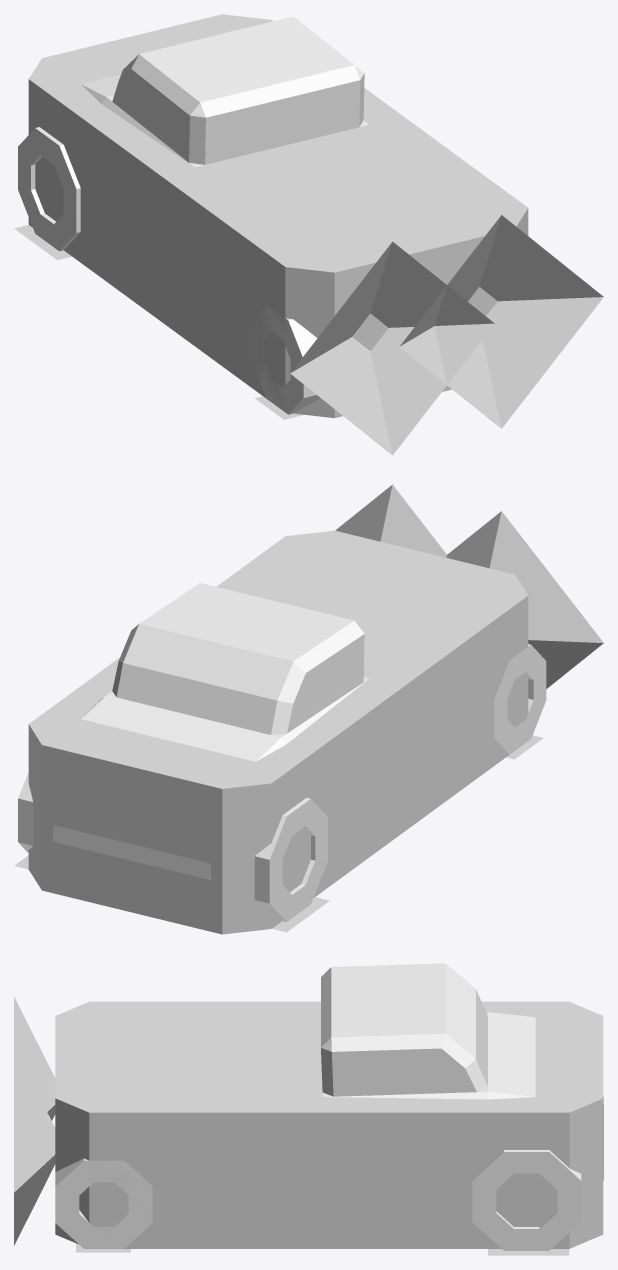
The model's file is Rattle.fbx.
3 views of the same model, one above another, from view 1: azimuth 30°, elevation 25°; view 2: azimuth 150°, elevation 25°; view 3: azimuth 270°, elevation 25° (orthographic). The views are drawn at different scales.
Visible parts, largest first — view 1: rattle_cldr, rattle1, TireSmokeMesh; view 2: rattle_cldr, rattle1, TireSmokeMesh; view 3: rattle_cldr, rattle1, TireSmokeMesh.
Part boxes in pixels (x1,y1,x2,y2): rattle_cldr: (28, 14, 528, 418); rattle1: (18, 16, 603, 455); TireSmokeMesh: (14, 225, 304, 419); rattle_cldr: (28, 530, 528, 934); rattle1: (18, 484, 603, 921); TireSmokeMesh: (14, 735, 543, 932); rattle_cldr: (55, 1001, 603, 1248); rattle1: (14, 963, 603, 1250); TireSmokeMesh: (76, 1243, 569, 1255).
Size of the model in its own units: 4.01 by 2.91 by 6.98.
